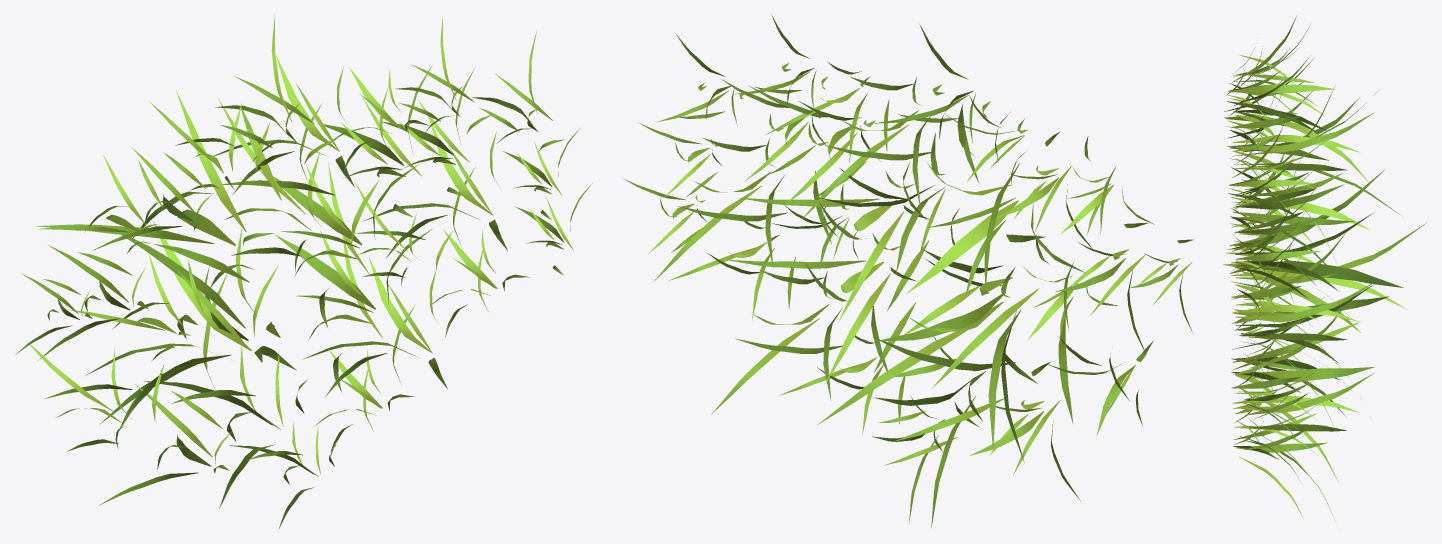
File: modelGrass.fbx
3 renders of one model, left to right at view 1: azimuth 30°, elevation 25°; view 2: azimuth 150°, elevation 25°; view 3: azimuth 270°, elevation 25°, orthographic. The views are drawn at different scales.
Parts seen in each view (by area): view 1: _gltfNode_0; view 2: _gltfNode_0; view 3: _gltfNode_0.
Boxes of the visible parts, x1,y1,x2,y2 form: _gltfNode_0: (15,14,592,529); _gltfNode_0: (624,14,1193,528); _gltfNode_0: (1223,16,1426,525).
Size of the model in its own units: 1.78 by 1.51 by 0.5544.
